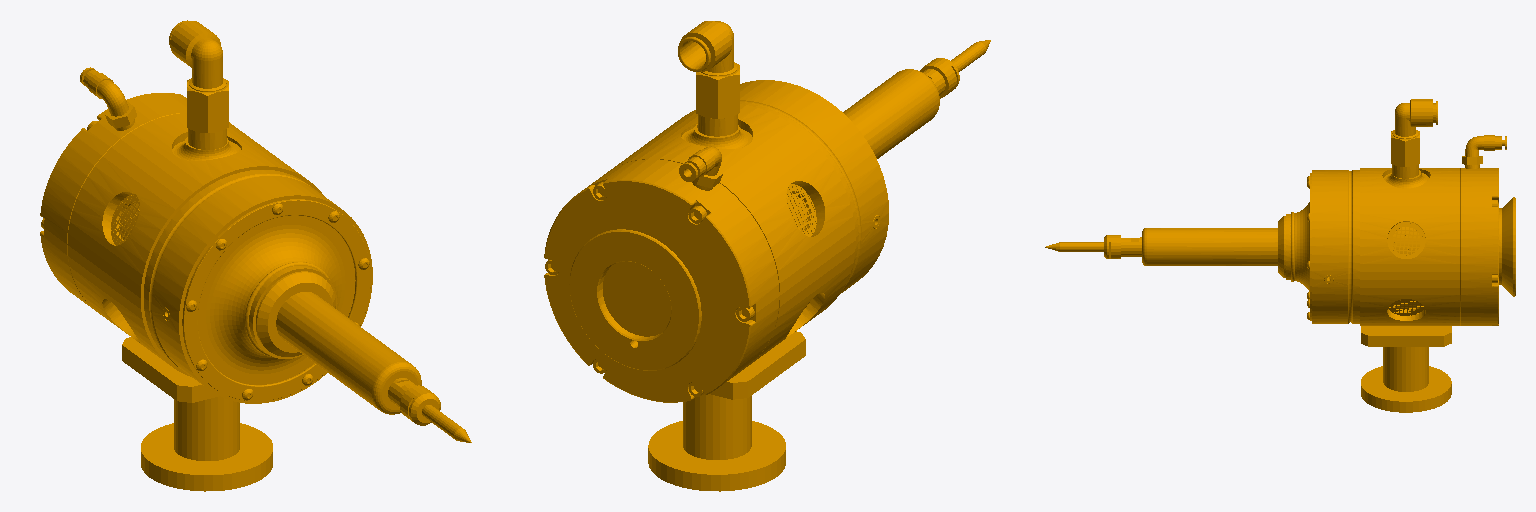
The robot description file, URDF, robot "Burr":
<?xml version="1.0"?>
<robot name="Burr">
  <!-- Project convention: tool origin RPY values are authored in degrees. -->
  <link name="tool_base">
    <visual>
      <origin xyz="0 0 0" rpy="0 0 0"/>
      <geometry>
        <mesh filename="Tool.stl" scale="0.001 0.001 0.001"/>
      </geometry>
    </visual>
  </link>

  <link name="tool0"/>

  <joint name="tool0_joint" type="fixed">
    <parent link="tool_base"/>
    <child link="tool0"/>
    <origin xyz="0 -0.250 0.1065" rpy="0 0 90"/>
  </joint>
</robot>

--- Facts derived from the render (not from the file) ---
Views: 3 orthographic renders of the robot side by side, from view 1: azimuth 30°, elevation 25°; view 2: azimuth 150°, elevation 25°; view 3: azimuth 270°, elevation 25°.
Model Burr with 2 links and 1 joints (1 fixed), rooted at tool_base, posed every joint at zero.
Visible links, largest first — view 1: tool_base; view 2: tool_base; view 3: tool_base.
Link boxes in pixels (x1,y1,x2,y2): tool_base: (40,20,471,491); tool_base: (544,21,990,491); tool_base: (1045,99,1515,412).
Size in the robot's own frame: 0.1044 by 0.3105 by 0.2131 metres.
1 mesh visuals loaded from 1 distinct referenced files (1 binary STL).
